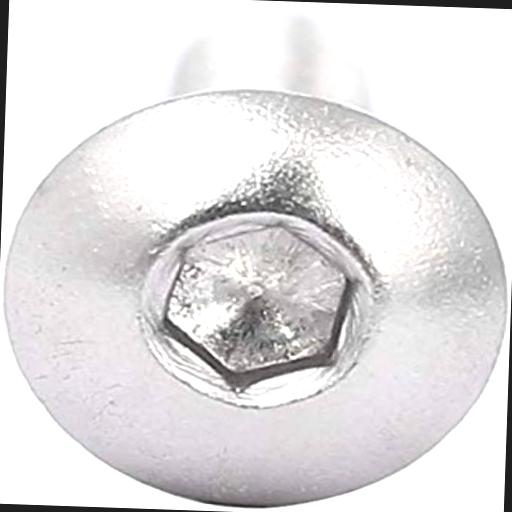Hex-Allen: (0, 79, 511, 512)
